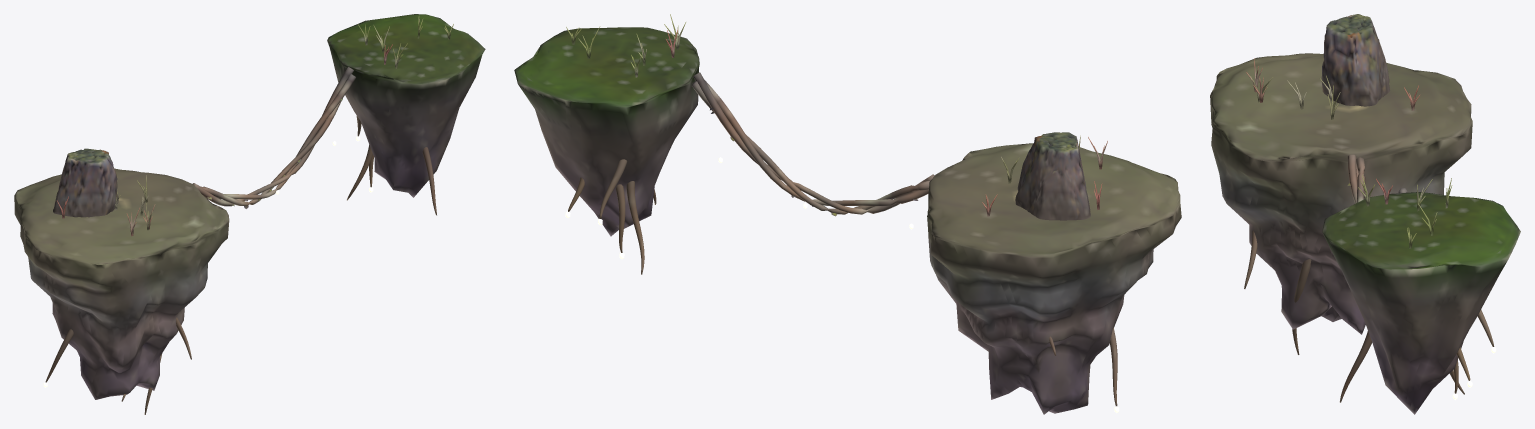
The model's file is ucan_ikiz.glb.
3 views of the same model, side by side, from view 1: azimuth 30°, elevation 25°; view 2: azimuth 150°, elevation 25°; view 3: azimuth 270°, elevation 25° (orthographic). The views are drawn at different scales.
Visible parts, largest first — view 1: ucan_ikiz_LOD0; view 2: ucan_ikiz_LOD0; view 3: ucan_ikiz_LOD0.
Part boxes in pixels (box(x1,y1,x2,y2)): ucan_ikiz_LOD0: box(14, 14, 485, 414); ucan_ikiz_LOD0: box(514, 14, 1181, 414); ucan_ikiz_LOD0: box(1210, 14, 1520, 414).
Size of what is drawn, in the model's own units: 7.83 by 4.39 by 3.56.
